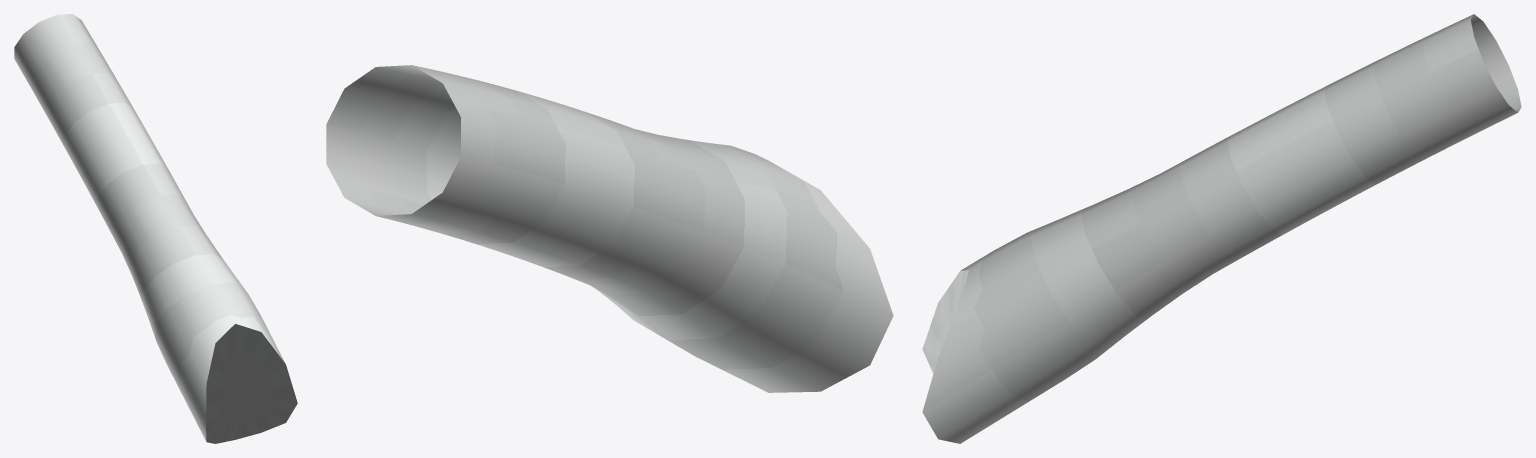
File: luminairearm_caltrans12ft_c0_pedestal.obj
3 views of the same model, side by side, from view 1: azimuth 30°, elevation 25°; view 2: azimuth 150°, elevation 25°; view 3: azimuth 270°, elevation 25° (orthographic). The views are drawn at different scales.
Visible parts, largest first — view 1: luminairearm_caltrans12ft_c0_pedestal; view 2: luminairearm_caltrans12ft_c0_pedestal; view 3: luminairearm_caltrans12ft_c0_pedestal.
Part boxes in pixels (x1=…): luminairearm_caltrans12ft_c0_pedestal: x1=14, y1=14, x2=297, y2=443; luminairearm_caltrans12ft_c0_pedestal: x1=326, y1=65, x2=893, y2=392; luminairearm_caltrans12ft_c0_pedestal: x1=922, y1=14, x2=1521, y2=443.
Bounding box in the file's own units: 0.3375 × 1.03 × 1.36.
